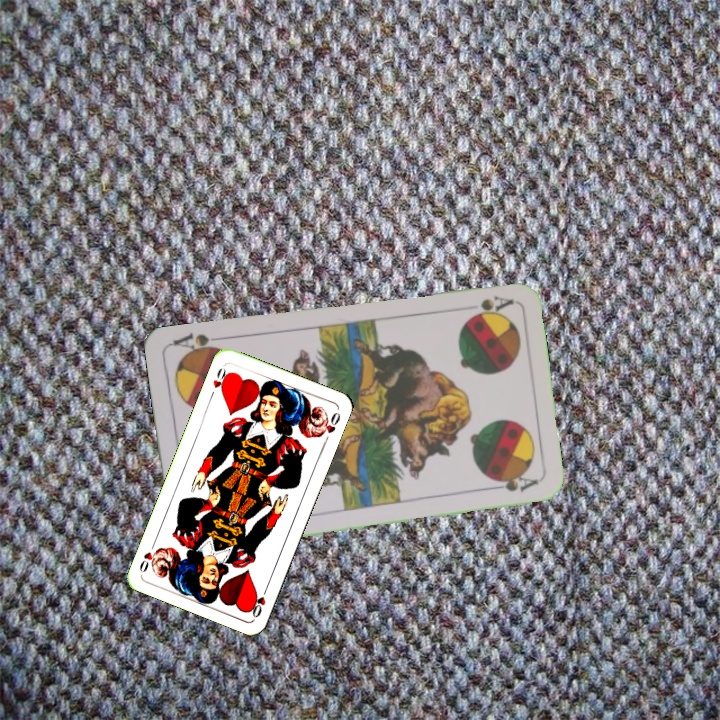HO: (246, 582, 271, 621), (206, 364, 232, 400)
SA: (463, 291, 515, 321)
